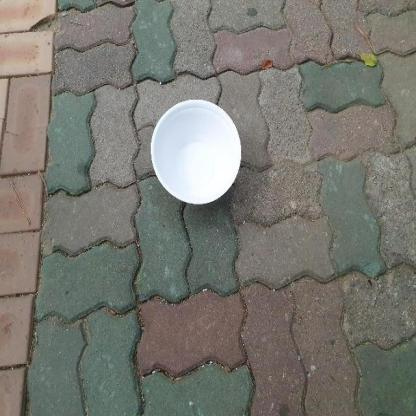Glass Cup: (149, 100, 242, 205), (151, 99, 241, 204)
